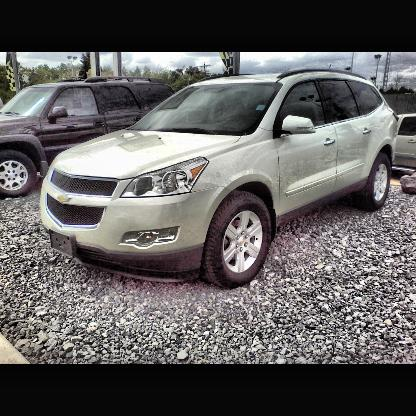Chevrolet Traverse SUV 2012: (40, 66, 400, 290)
